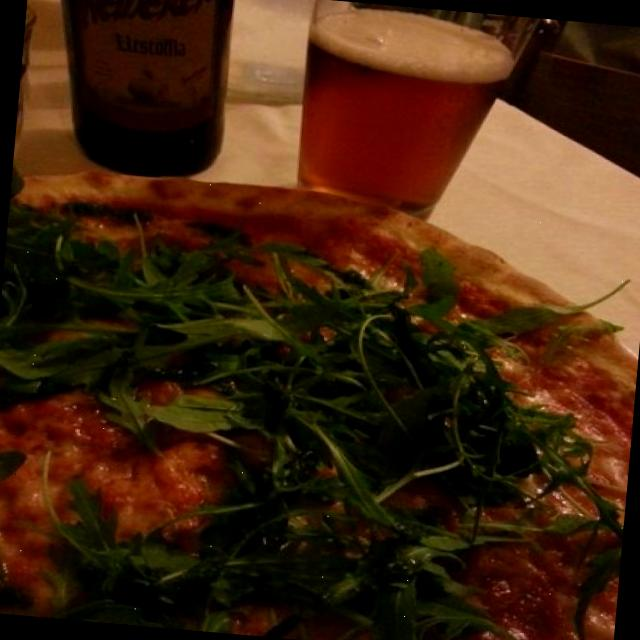basil: (0, 200, 445, 426), (258, 282, 543, 510), (196, 475, 475, 640), (23, 502, 240, 634), (549, 479, 627, 640)
pizza: (0, 173, 634, 640)
